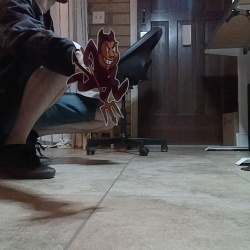sparky: (65, 27, 129, 126)
